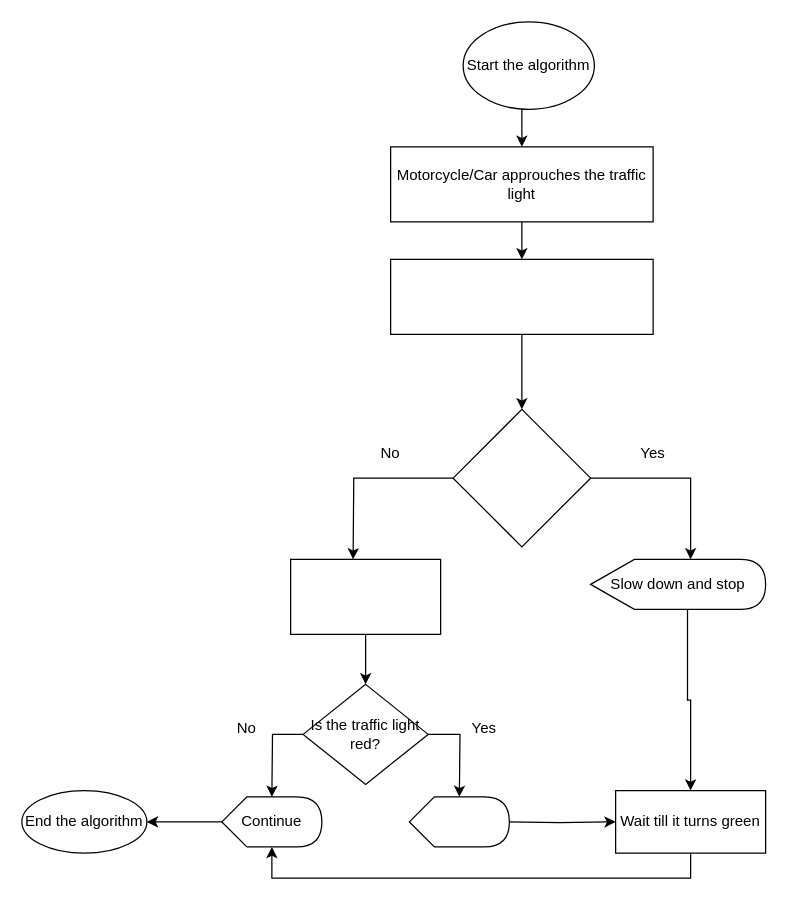
This 788x910 diagram has some shape labels left out. Each missing label, with the centre of its shape:
"Check for other traffic light color" goes at point (365, 596).
"Is the traffic light yellow?" goes at point (521, 477).
"Motorcycle/Car checks for traffic light color" goes at point (521, 296).
"Stop" goes at point (458, 821).
